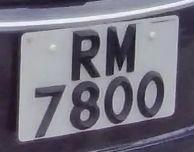0: (100, 72, 137, 126), (135, 66, 166, 122)
7: (27, 76, 68, 142)
8: (65, 74, 106, 131)
M: (101, 21, 142, 80)
R: (66, 26, 106, 83)
